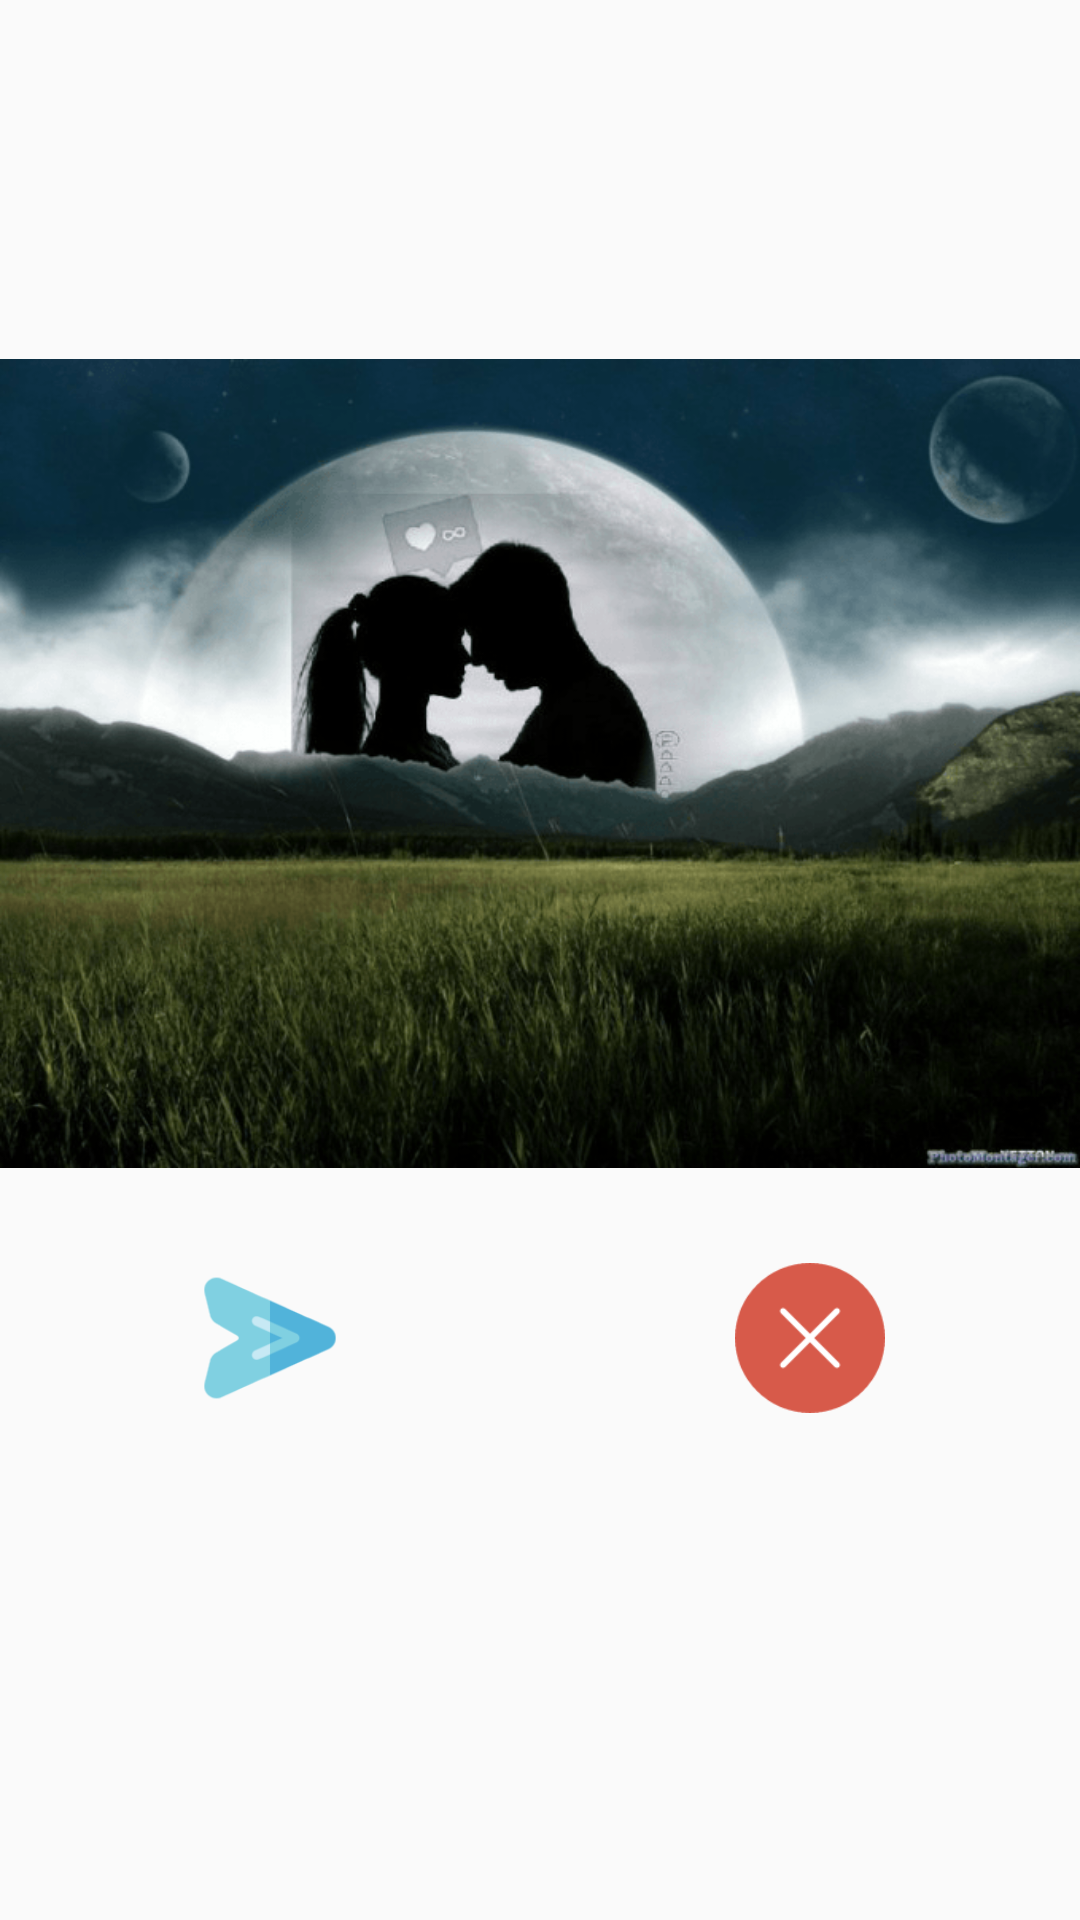

Icons on this 1080x1920 Android screen, each with the point to tap as point (x, y):
error: point (810, 1338)
send: point (270, 1338)
